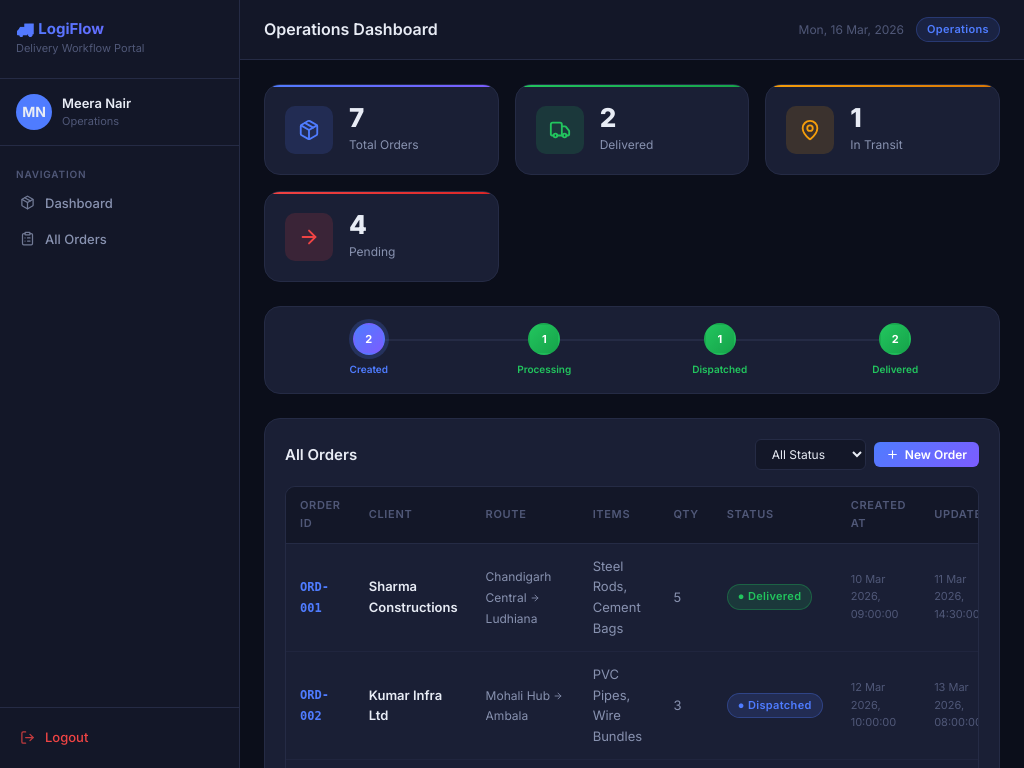
Test case: Operations Dashboard › closes modal on cancel
Click the button "New Order" at {"x": 926, "y": 455}, box [874,442,979,467]
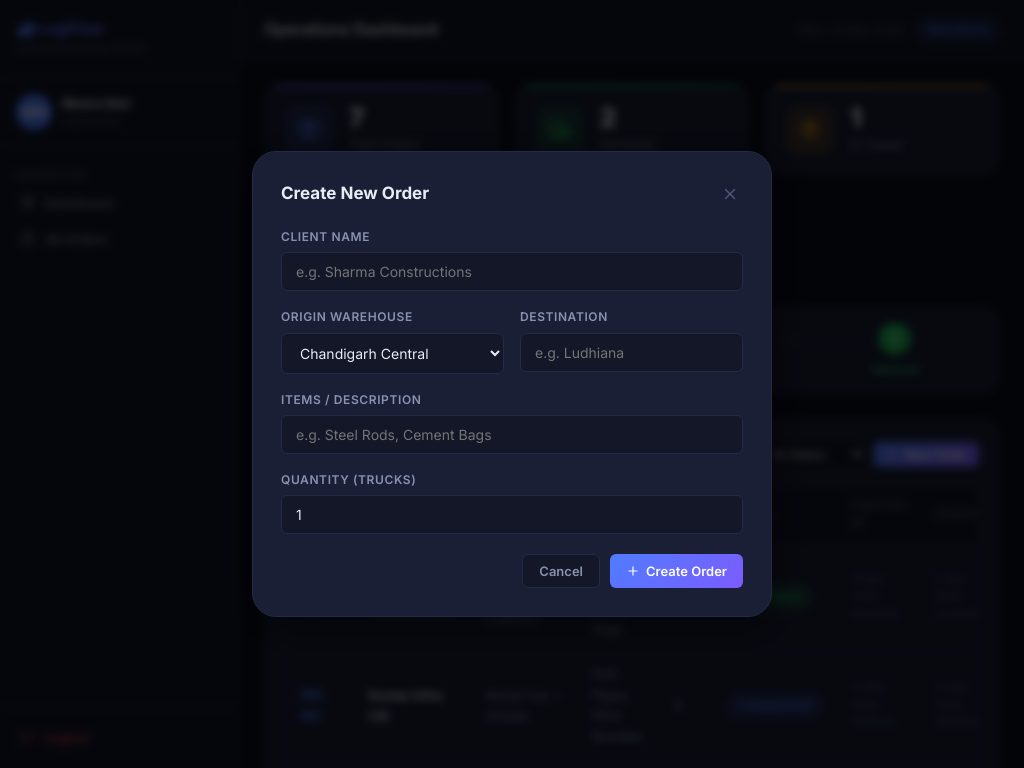
Click the button "Cancel" at {"x": 561, "y": 571}, box [522,554,600,588]
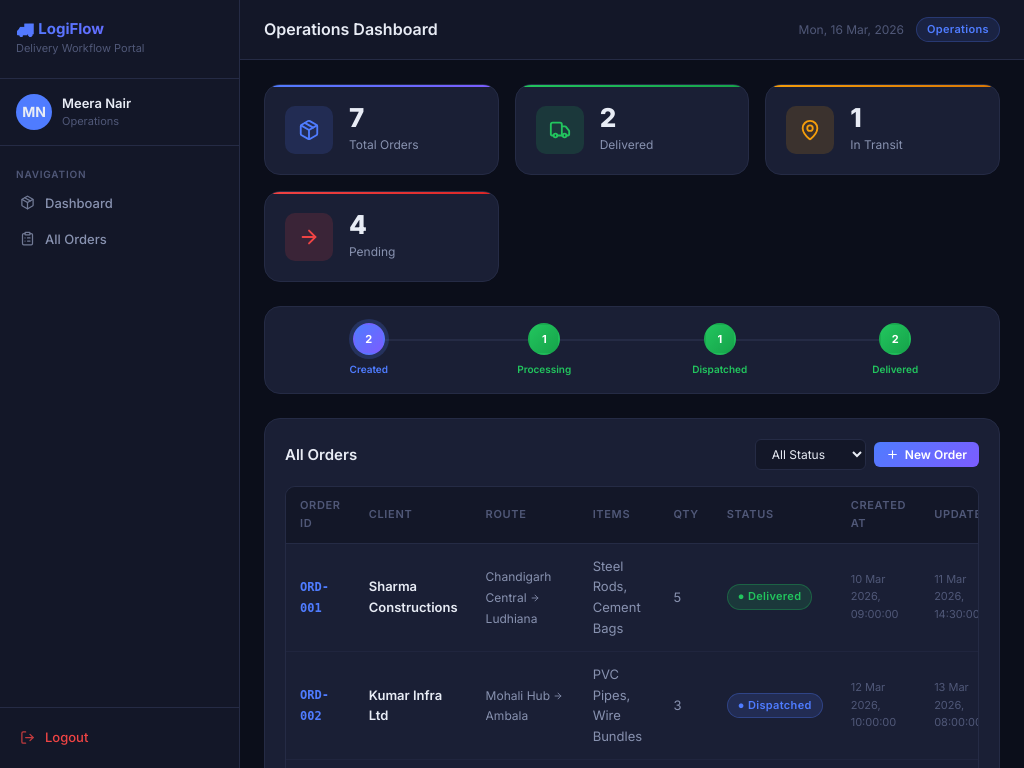
Expected: the heading "Create New Order" is gone
